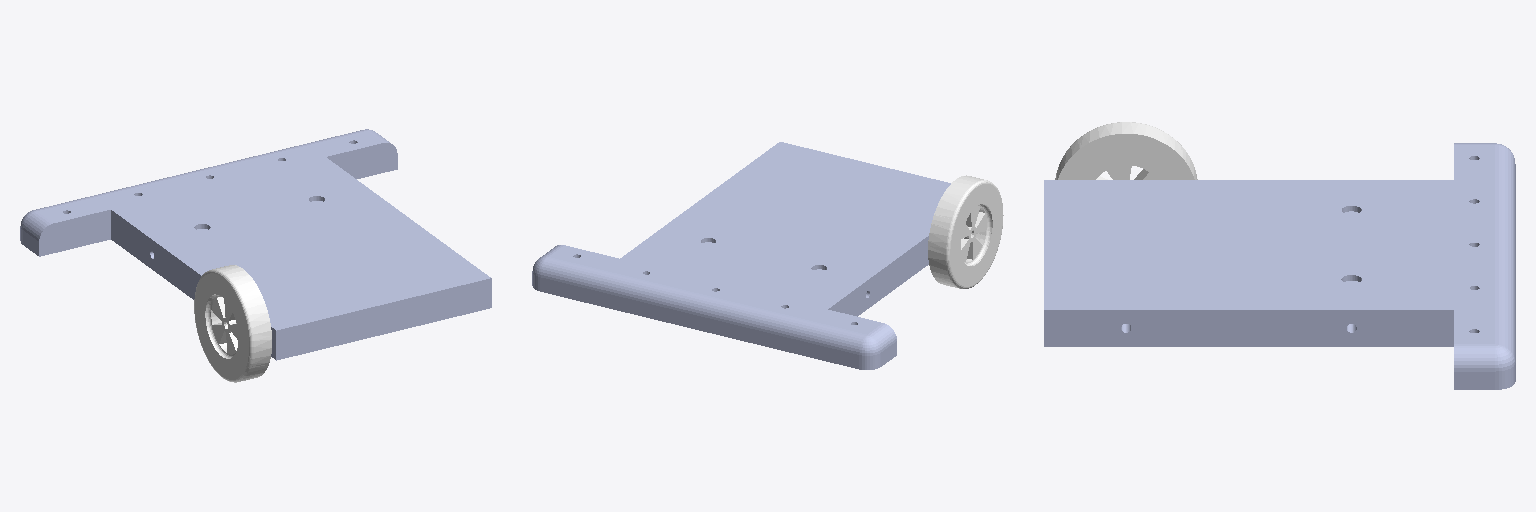
URDF robot description (urdf10):
<?xml version="1.0" encoding="utf-8"?>
<!-- This URDF was automatically created by SolidWorks to URDF Exporter! Originally created by [author] ([email redacted]) 
     Commit Version: 1.6.0-1-g15f4949  Build Version: 1.6.7594.29634
     For more information, please see http://wiki.ros.org/sw_urdf_exporter -->
<robot
  name="urdf10">
  <link
    name="base_link">
    <inertial>
      <origin
        xyz="-1.238E-17 0.009928 -0.022088"
        rpy="0 0 0" />
      <mass
        value="0.73548" />
      <inertia
        ixx="0.0035158"
        ixy="1.4597E-21"
        ixz="-1.0428E-18"
        iyy="0.0053257"
        iyz="-5.1248E-06"
        izz="0.0018588" />
    </inertial>
    <visual>
      <origin
        xyz="0 0 0"
        rpy="0 0 0" />
      <geometry>
        <mesh
          filename="package://urdf10/meshes/base_link.STL" />
      </geometry>
      <material
        name="">
        <color
          rgba="0.79216 0.81961 0.93333 1" />
      </material>
    </visual>
    <collision>
      <origin
        xyz="0 0 0"
        rpy="0 0 0" />
      <geometry>
        <mesh
          filename="package://urdf10/meshes/base_link.STL" />
      </geometry>
    </collision>
  </link>
  <link
    name="RF">
    <inertial>
      <origin
        xyz="0 5.20417042793042E-18 -0.00782717034564995"
        rpy="0 0 0" />
      <mass
        value="0.0489436503728706" />
      <inertia
        ixx="1.76621848414269E-05"
        ixy="-8.19506573667038E-22"
        ixz="-3.55066315822392E-22"
        iyy="1.76621848414269E-05"
        iyz="1.68025079304297E-22"
        izz="3.36011356425037E-05" />
    </inertial>
    <visual>
      <origin
        xyz="0 0 0"
        rpy="0 0 0" />
      <geometry>
        <mesh
          filename="package://urdf10/meshes/RF.STL" />
      </geometry>
      <material
        name="">
        <color
          rgba="0.792156862745098 0.819607843137255 0.933333333333333 1" />
      </material>
    </visual>
    <collision>
      <origin
        xyz="0 0 0"
        rpy="0 0 0" />
      <geometry>
        <mesh
          filename="package://urdf10/meshes/RF.STL" />
      </geometry>
    </collision>
  </link>
  <joint
    name="RFJ"
    type="continuous">
    <origin
      xyz="0.09 0.05 0.01"
      rpy="-1.5708 0 -1.5708" />
    <parent
      link="base_link" />
    <child
      link="RF" />
    <axis
      xyz="0 0 0" />
  </joint>
  <link
    name="RB">
    <inertial>
      <origin
        xyz="0 3.46944695195361E-18 -0.00782717034564995"
        rpy="0 0 0" />
      <mass
        value="0.0489436503728706" />
      <inertia
        ixx="1.7662184841427E-05"
        ixy="-6.7375032193116E-22"
        ixz="3.25438614416667E-23"
        iyy="1.7662184841427E-05"
        iyz="1.52977332062342E-22"
        izz="3.36011356425037E-05" />
    </inertial>
    <visual>
      <origin
        xyz="0 0 0"
        rpy="0 0 0" />
      <geometry>
        <mesh
          filename="package://urdf10/meshes/RB.STL" />
      </geometry>
      <material
        name="">
        <color
          rgba="0.792156862745098 0.819607843137255 0.933333333333333 1" />
      </material>
    </visual>
    <collision>
      <origin
        xyz="0 0 0"
        rpy="0 0 0" />
      <geometry>
        <mesh
          filename="package://urdf10/meshes/RB.STL" />
      </geometry>
    </collision>
  </link>
  <joint
    name="RBJ"
    type="continuous">
    <origin
      xyz="0.09 -0.06 0.01"
      rpy="-1.5708 0 -1.5708" />
    <parent
      link="base_link" />
    <child
      link="RB" />
    <axis
      xyz="0 0 0" />
  </joint>
  <link
    name="LF">
    <inertial>
      <origin
        xyz="-6.93889390390723E-18 -6.93889390390723E-18 0.00782717034564995"
        rpy="0 0 0" />
      <mass
        value="0.0489436503728706" />
      <inertia
        ixx="1.76621848414269E-05"
        ixy="-8.470329472543E-22"
        ixz="4.40041994907905E-22"
        iyy="1.76621848414269E-05"
        iyz="3.14249351544543E-22"
        izz="3.36011356425037E-05" />
    </inertial>
    <visual>
      <origin
        xyz="0 0 0"
        rpy="0 0 0" />
      <geometry>
        <mesh
          filename="package://urdf10/meshes/LF.STL" />
      </geometry>
      <material
        name="">
        <color
          rgba="0.792156862745098 0.819607843137255 0.933333333333333 1" />
      </material>
    </visual>
    <collision>
      <origin
        xyz="0 0 0"
        rpy="0 0 0" />
      <geometry>
        <mesh
          filename="package://urdf10/meshes/LF.STL" />
      </geometry>
    </collision>
  </link>
  <joint
    name="LFJ"
    type="continuous">
    <origin
      xyz="-0.09 0.05 0.01"
      rpy="1.5708 0.91772 1.5708" />
    <parent
      link="base_link" />
    <child
      link="LF" />
    <axis
      xyz="0 0 0" />
  </joint>
  <link
    name="LB">
    <inertial>
      <origin
        xyz="0 0 0"
        rpy="0 0 0" />
      <mass
        value="0" />
      <inertia
        ixx="0"
        ixy="0"
        ixz="0"
        iyy="0"
        iyz="0"
        izz="0" />
    </inertial>
    <visual>
      <origin
        xyz="0 0 0"
        rpy="0 0 0" />
      <geometry>
        <mesh
          filename="package://urdf10/meshes/LB.STL" />
      </geometry>
      <material
        name="">
        <color
          rgba="1 1 1 1" />
      </material>
    </visual>
    <collision>
      <origin
        xyz="0 0 0"
        rpy="0 0 0" />
      <geometry>
        <mesh
          filename="package://urdf10/meshes/LB.STL" />
      </geometry>
    </collision>
  </link>
  <joint
    name="LBJ"
    type="continuous">
    <origin
      xyz="-0.09 -0.06 0.01"
      rpy="1.5708 -0.58406 1.5708" />
    <parent
      link="base_link" />
    <child
      link="LB" />
    <axis
      xyz="0 0 0" />
  </joint>
</robot>

--- Facts derived from the render (not from the file) ---
Views: 3 orthographic renders of the robot side by side, from view 1: azimuth 30°, elevation 25°; view 2: azimuth 150°, elevation 25°; view 3: azimuth 270°, elevation 25°.
Model urdf10 with 5 links and 4 joints (4 continuous), rooted at base_link, posed all joints at 0.
Links seen in each view (by area): view 1: base_link, LB; view 2: base_link, LB; view 3: base_link, LB.
Link boxes in pixels (x1,y1,x2,y2): base_link: (20, 129, 491, 360); LB: (194, 265, 271, 382); base_link: (532, 142, 950, 369); LB: (928, 175, 1003, 288); base_link: (1044, 143, 1515, 389); LB: (1055, 122, 1197, 179).
Bounding box of the posed robot: 0.25 × 0.23 × 0.0699 m (x, y, z).
2 mesh visuals loaded from 5 distinct referenced files (2 binary STL); not drawn: 3 (reference not matched to a file when rendering).